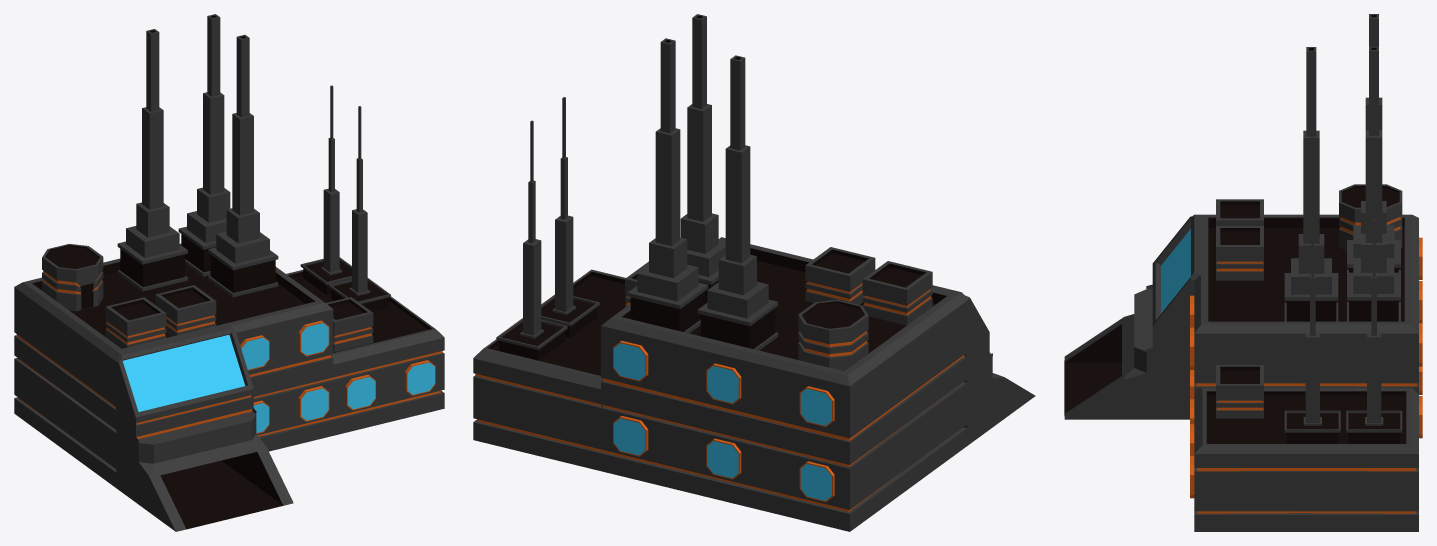
File: Shaxta.fbx
3 views of the same model, side by side, from view 1: azimuth 30°, elevation 25°; view 2: azimuth 150°, elevation 25°; view 3: azimuth 270°, elevation 25° (orthographic). The views are drawn at different scales.
Parts seen in each view (by area): view 1: Cube.003, Cube.028, Cube.032, Cube.031, Cube.033, Cube.034; view 2: Cube.003, Cube.028, Cube.032, Cube.029, Cube.030; view 3: Cube.003, Cube.028, Cube.032, Cube.029.
Boxes of the visible parts, x1,y1,x2,y2 form: Cube.003: (14,14,444,531); Cube.028: (300,85,351,295); Cube.032: (328,106,390,311); Cube.031: (345,360,435,410); Cube.033: (240,320,329,370); Cube.034: (253,386,329,433); Cube.003: (473,14,1035,531); Cube.028: (496,120,567,360); Cube.032: (541,97,599,337); Cube.029: (613,340,834,426); Cube.030: (613,416,834,501); Cube.003: (1064,14,1418,531); Cube.028: (1346,219,1402,443); Cube.032: (1284,219,1340,443); Cube.029: (1419,237,1422,366).
Bounding box in the file's own units: 5.57 × 5.97 × 4.8.
